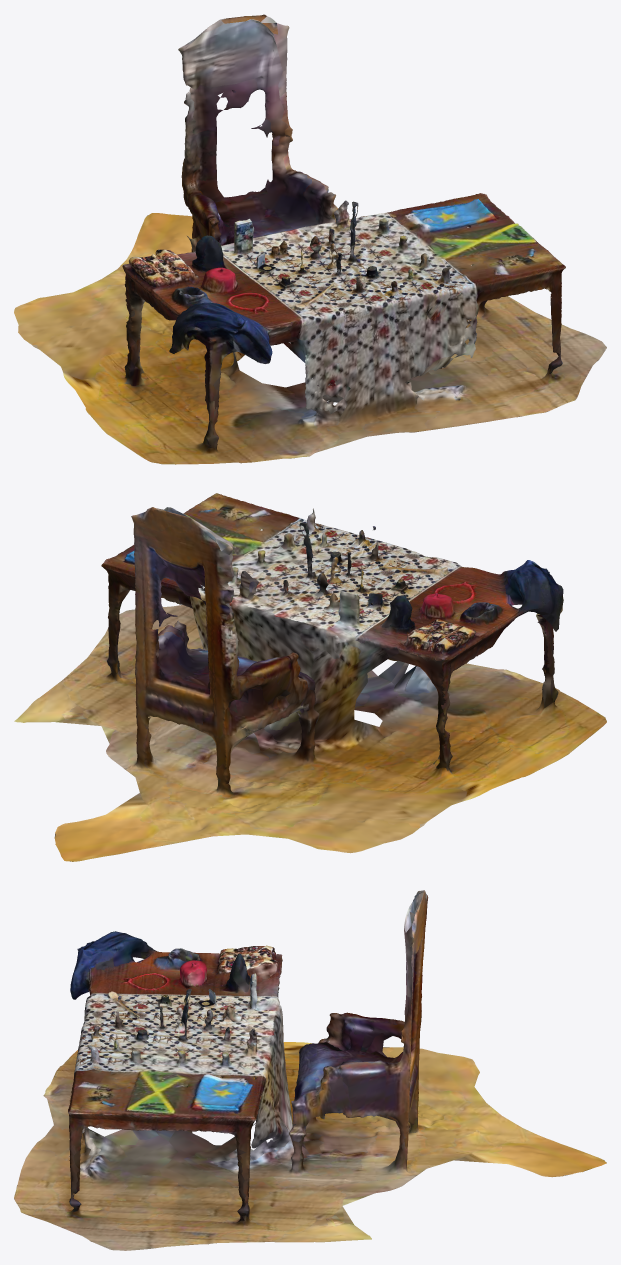
File: ttexhibition.glb
The picture shows the model from 3 angles, top to bottom: view 1: azimuth 30°, elevation 25°; view 2: azimuth 150°, elevation 25°; view 3: azimuth 270°, elevation 25°; orthographic projection. The views are drawn at different scales.
Visible parts, largest first — view 1: mesh.002; view 2: mesh.002; view 3: mesh.002.
Boxes of the visible parts, bbox=[...] form: mesh.002: bbox=[14, 14, 606, 464]; mesh.002: bbox=[14, 493, 606, 861]; mesh.002: bbox=[14, 890, 606, 1250].
Size of the model in its own units: 3.31 by 1.83 by 3.79.
1 material, 1 textured.
